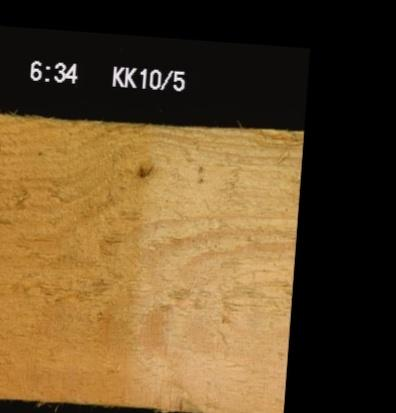split: (218, 288, 273, 322)
